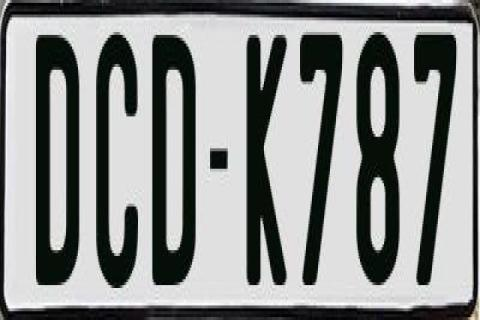0: (414, 35, 462, 294), (300, 35, 344, 303), (353, 32, 399, 288)
C: (94, 29, 140, 297)
D: (35, 35, 86, 291), (152, 26, 194, 288)
K: (248, 29, 289, 288)
